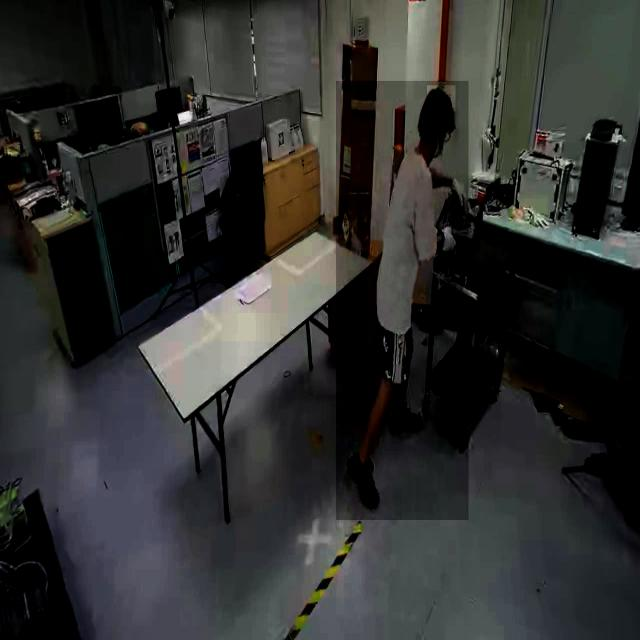hand_glove: (438, 218, 460, 268)
head_nohelmet: (426, 85, 456, 112)
person: (336, 81, 468, 521)
shoes: (344, 448, 382, 512), (388, 398, 422, 443)
